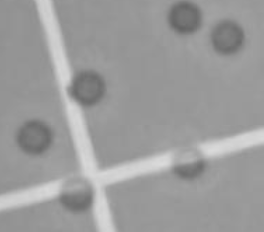cell: (54, 169, 98, 216), (63, 64, 109, 108), (12, 115, 56, 159), (206, 15, 247, 60), (167, 138, 206, 181), (164, 1, 205, 40)
